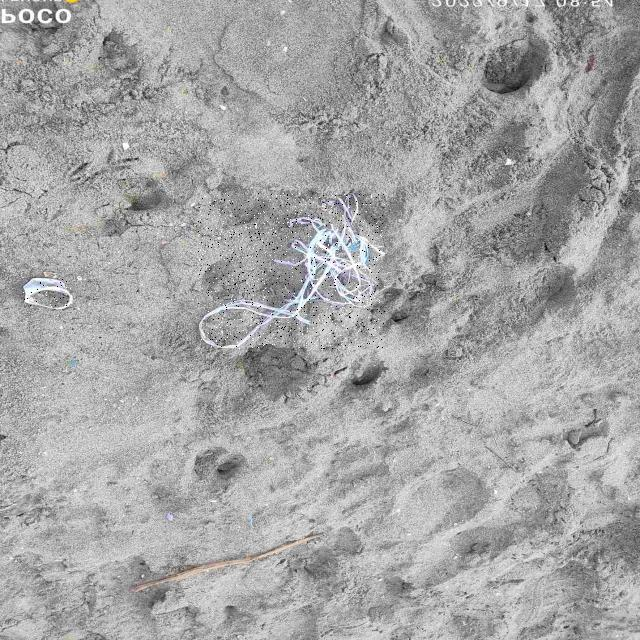plastic: (198, 193, 385, 349), (23, 278, 71, 309)
